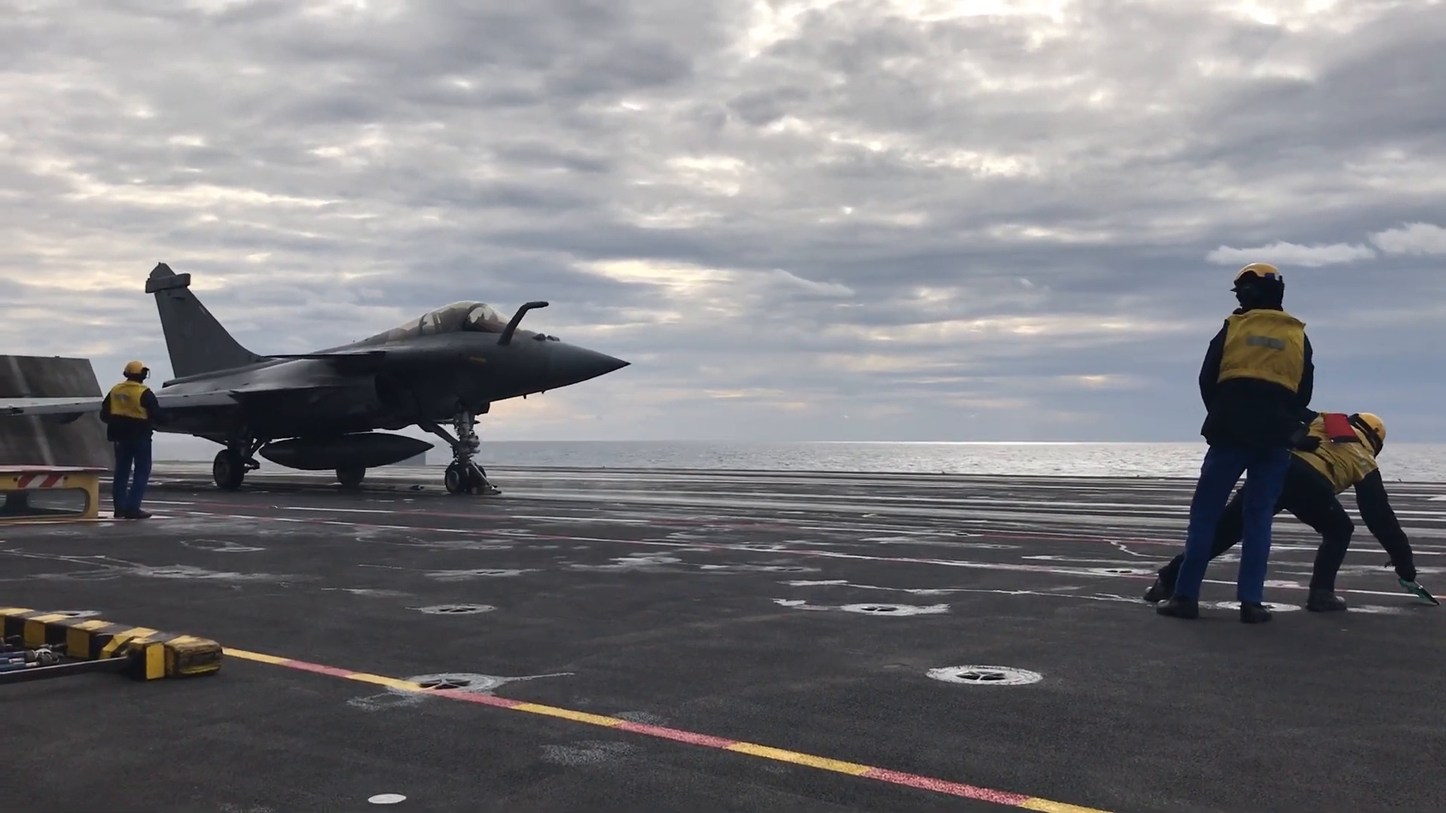Rafale: (0, 259, 633, 496)
